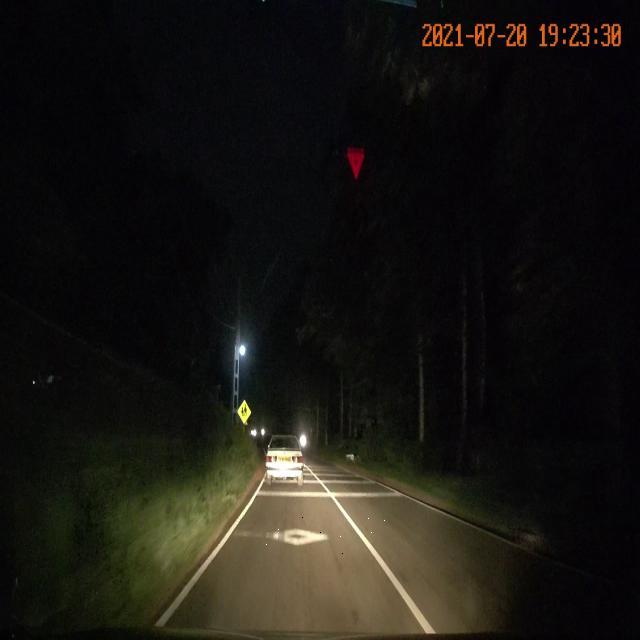diamond: (216, 517, 386, 558)
